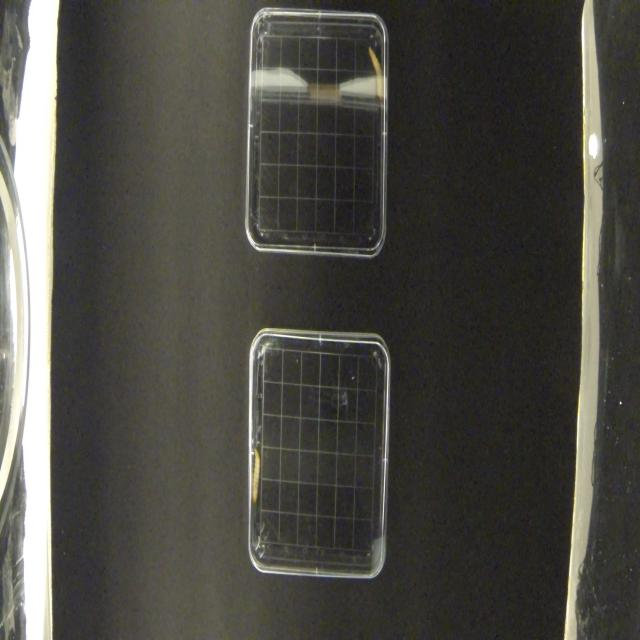larva: (366, 41, 384, 104), (252, 446, 263, 504)
